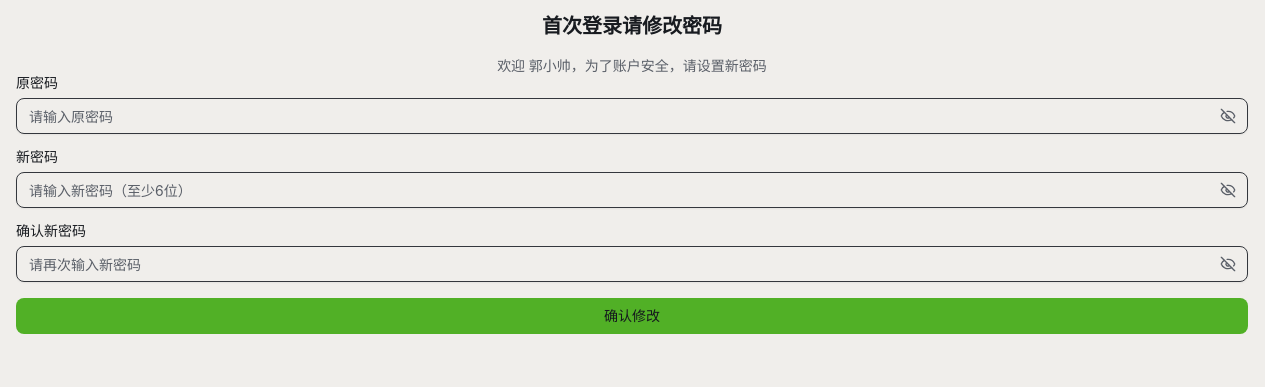
AuthForm › shows backend detail when change password fails
Expected: the text "首次登录请修改密码" is shown, [542,14,722,38]
Step 1. Type "initial123" into the password field labelled "原密码" → (632, 116), box [16,98,1248,134]
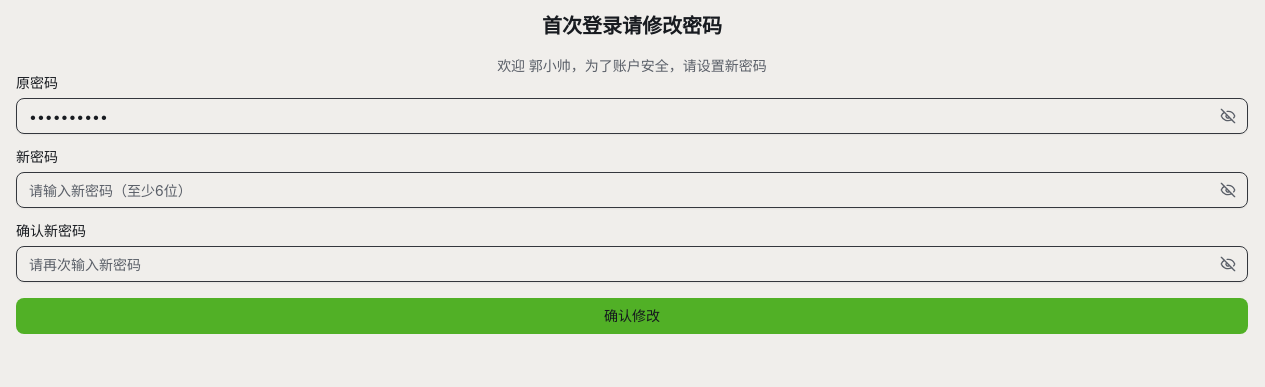
Step 2. Type "initial123" into the password field labelled "新密码" → (632, 190), box [16,172,1248,208]
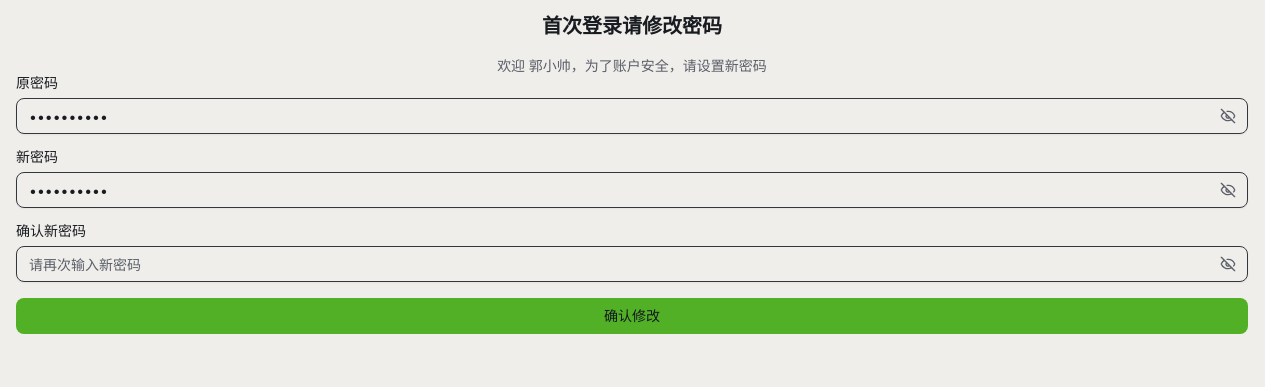
Step 3. Type "initial123" into the password field labelled "确认新密码" → (632, 264), box [16,246,1248,282]
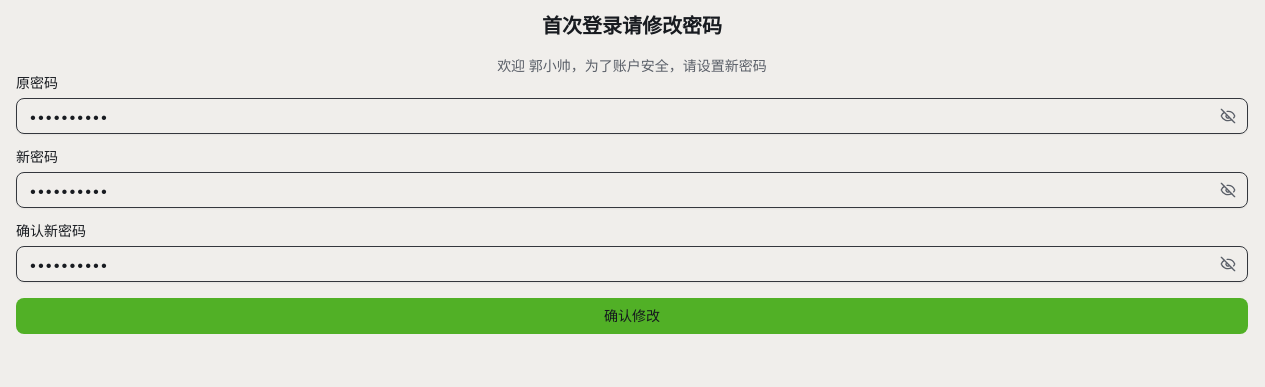
Step 4. Click the button "确认修改" → (632, 316), box [16,298,1248,334]
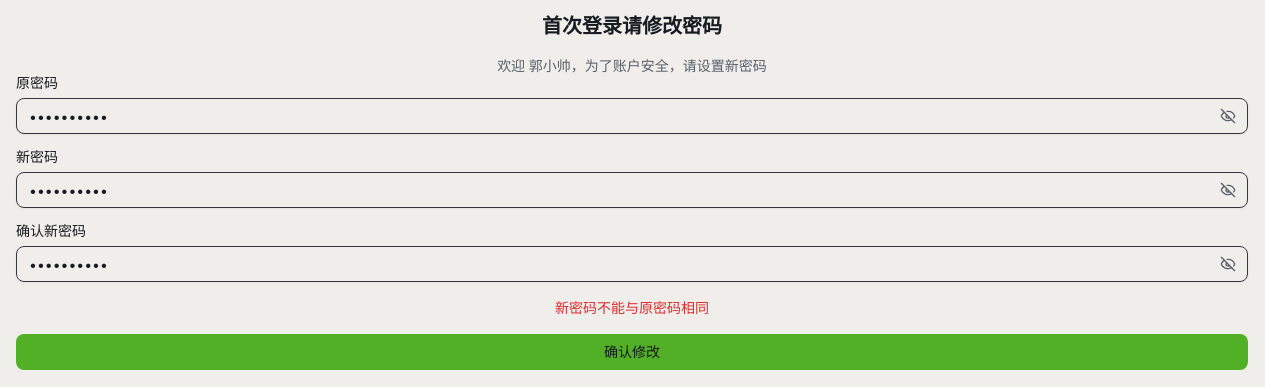
Result: the text "新密码不能与原密码相同" is shown at [555,299,709,316]
